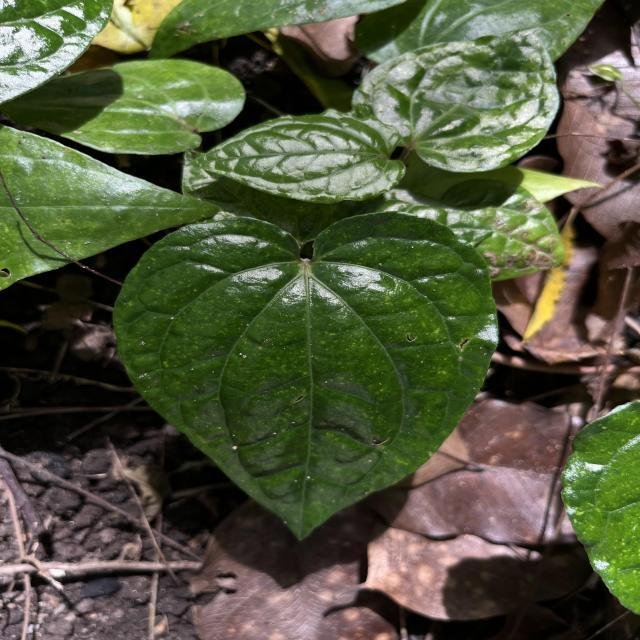Piper betle: (110, 208, 503, 544)
